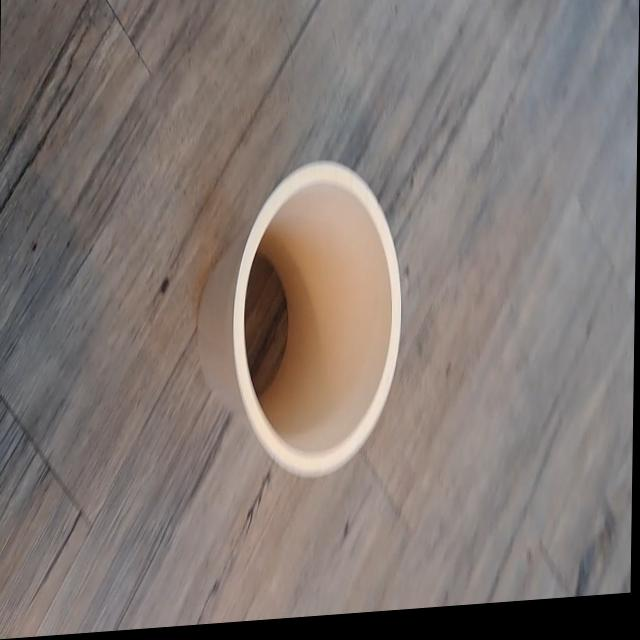CORAL: (178, 132, 429, 507)
